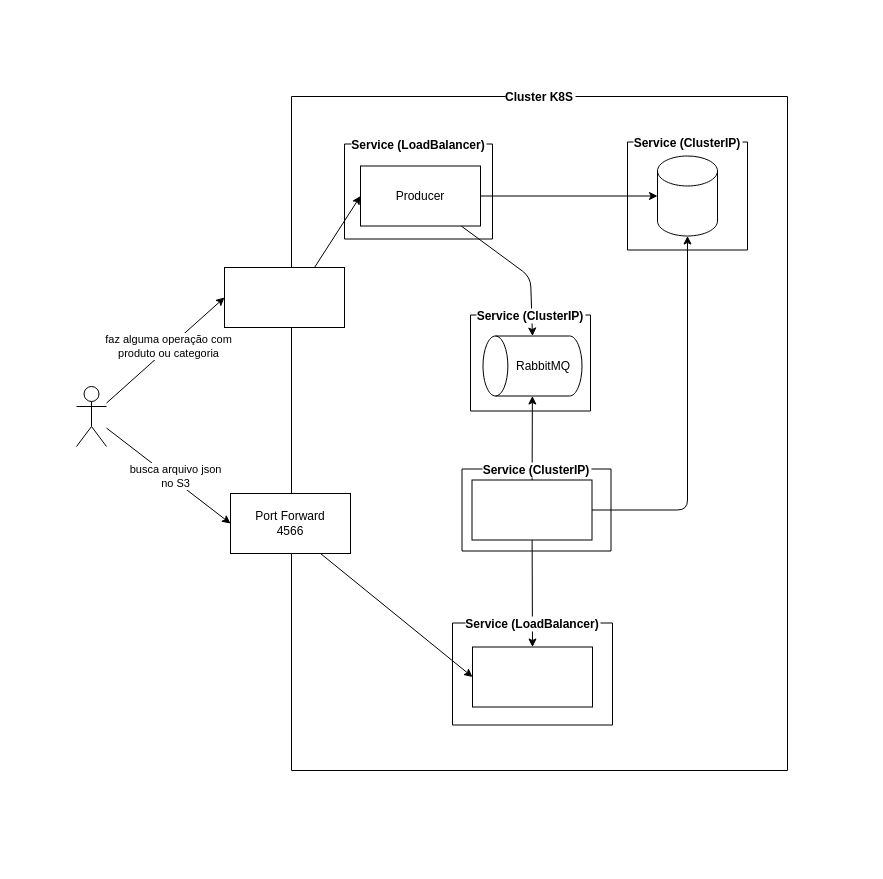
This 883x879 diagram has some shape labels left out. The shapes that lost their labels are listed below. From the top down, each one's centre as x and y in pixels, then its label:
At (687,195): "MongoDB".
At (284,297): "Port Forward 3000".
At (91,416): "Usuário".
At (531,509): "Consumer".
At (532,676): "Localstack S3".
